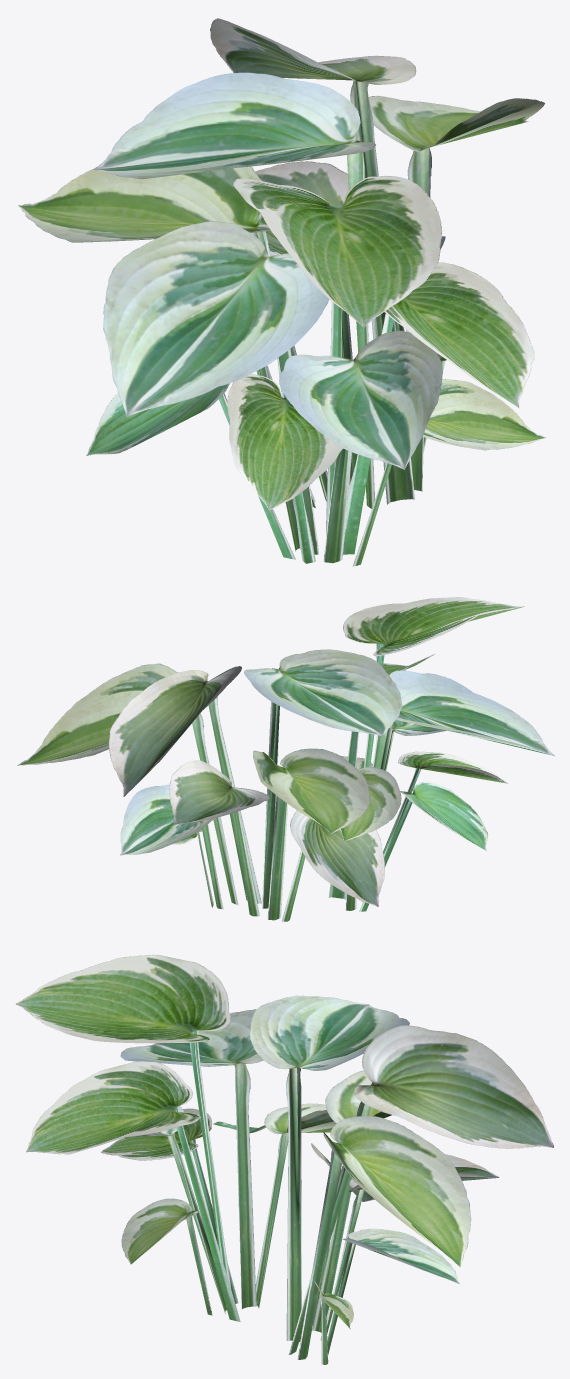
The model's file is plant_small_wg_00R.fbx.
3 views of the same model, one above another, from view 1: azimuth 30°, elevation 25°; view 2: azimuth 150°, elevation 25°; view 3: azimuth 270°, elevation 25° (orthographic). The views are drawn at different scales.
Parts seen in each view (by area): view 1: plant_small_wg_00R; view 2: plant_small_wg_00R; view 3: plant_small_wg_00R.
Part boxes in pixels (x1=…): plant_small_wg_00R: x1=18, y1=18, x2=546, y2=566; plant_small_wg_00R: x1=17, y1=597, x2=554, y2=921; plant_small_wg_00R: x1=16, y1=954, x2=553, y2=1364.
Bounding box in the file's own units: 67.59 × 44.96 × 70.88.
1 material, 1 textured.
